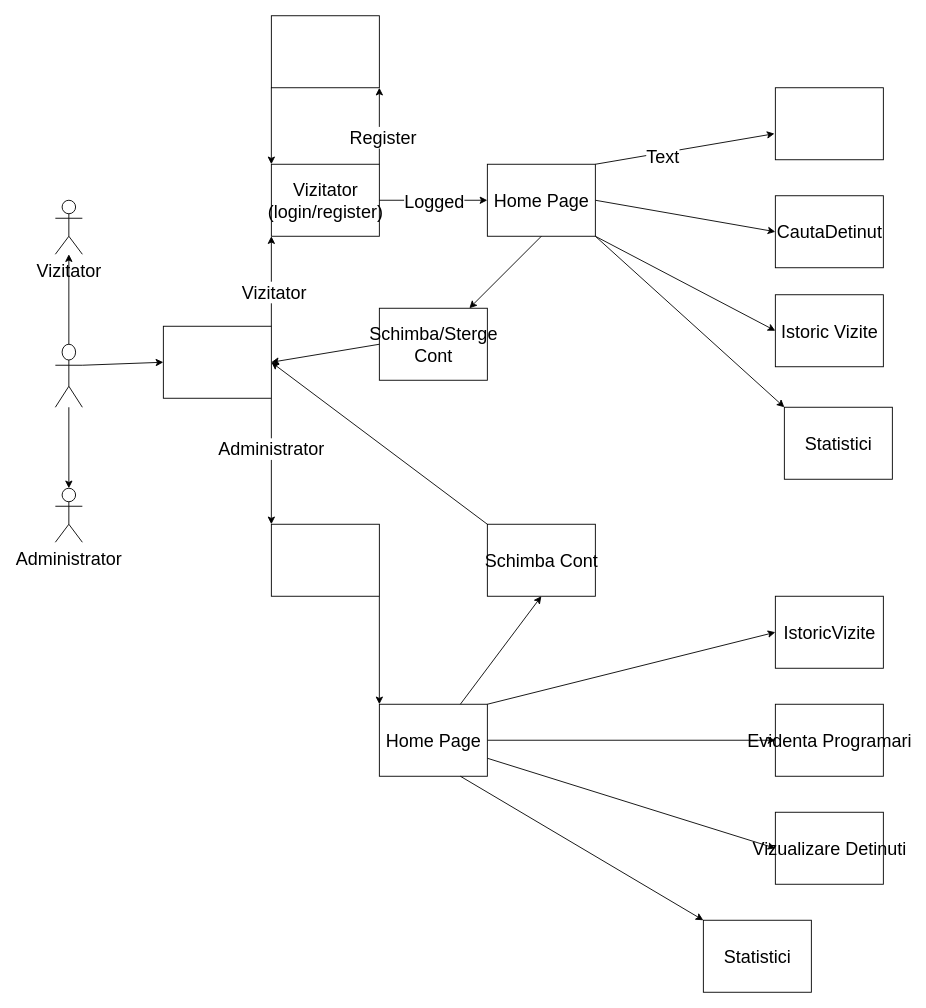
The diagram is 926 pixels wide and 1008 high, and some of its shapes have lost their labels. The shapes that lost their labels are listed below. From the top down, each one's centre as x and y in pixels, then its label:
At point 324,51: "Register Page".
At point 828,123: "Programare Vizita".
At point 68,375: "Persoana".
At point 216,361: "index.php (Start Page)".
At point 324,559: "Admin (login)".
